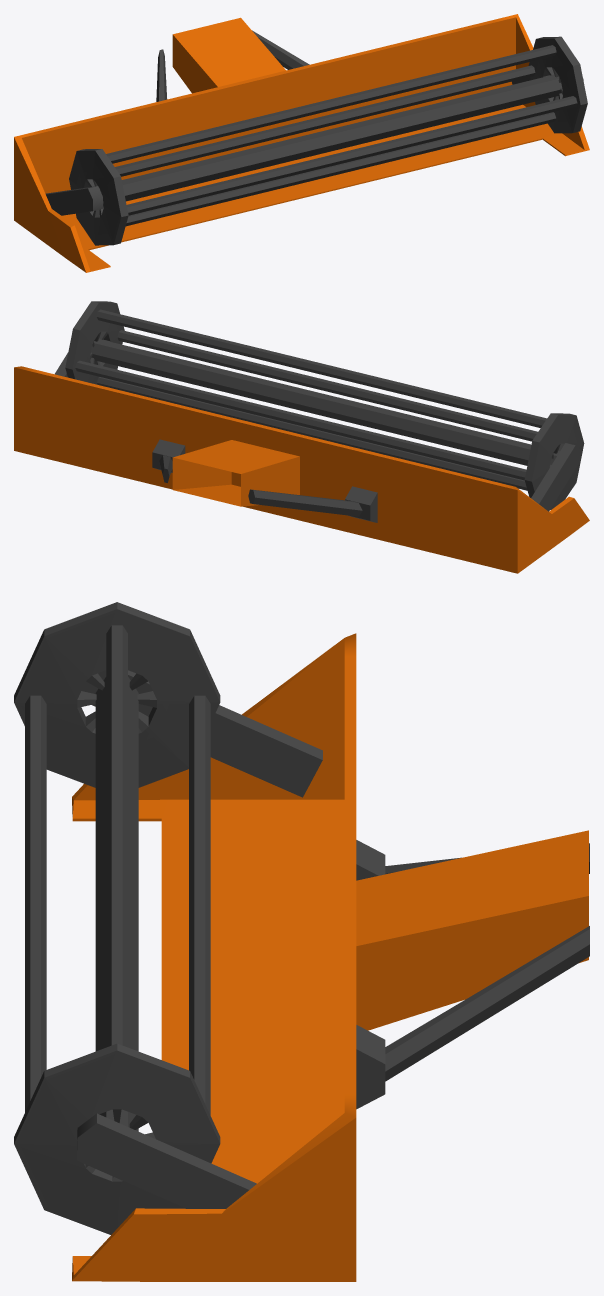
File: combine.fbx
3 renders of one model, top to bottom at view 1: azimuth 30°, elevation 25°; view 2: azimuth 150°, elevation 25°; view 3: azimuth 270°, elevation 25°, orthographic. The views are drawn at different scales.
Parts seen in each view (by area): view 1: combine; view 2: combine; view 3: combine.
Boxes of the visible parts, x1,y1,x2,y2 form: combine: (14, 14, 589, 272); combine: (14, 301, 589, 573); combine: (14, 602, 589, 1281).
Size of the model in its own units: 394 by 81.63 by 198.
